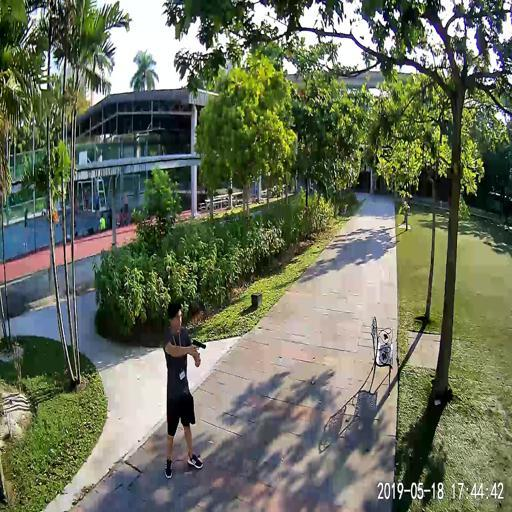Handgun: (190, 335, 205, 355)
